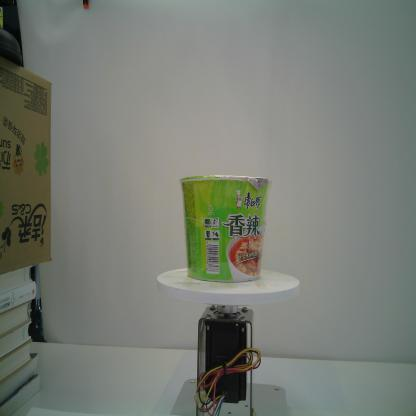Instant Noodles: (179, 174, 272, 284)
